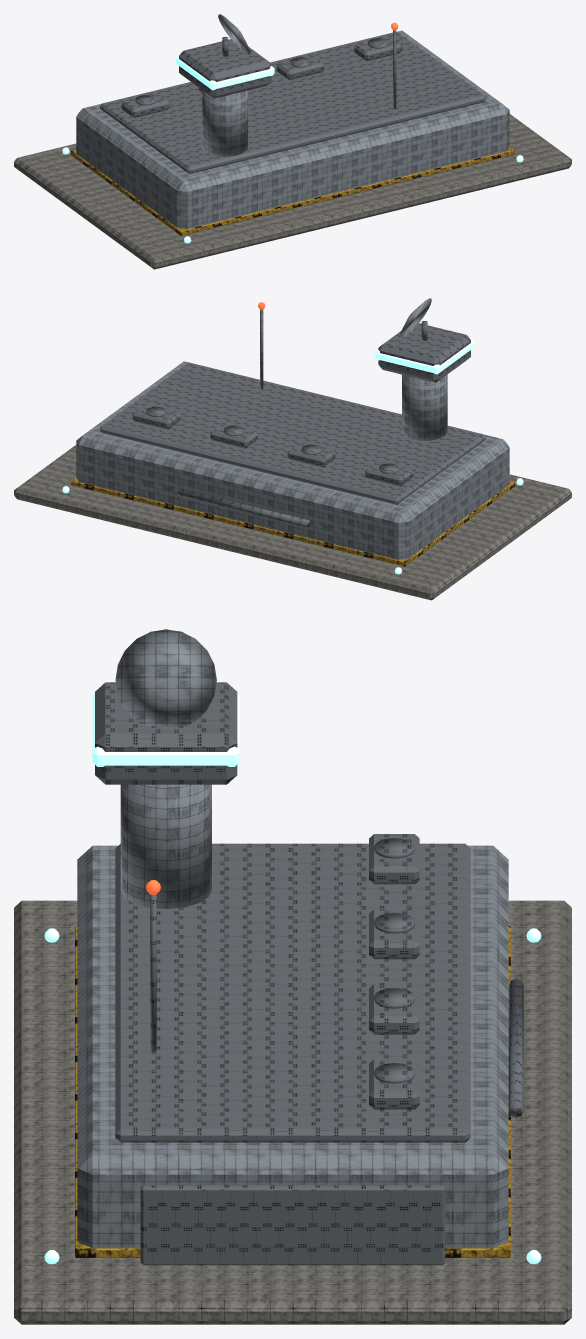
The picture shows the model from 3 angles, top to bottom: view 1: azimuth 30°, elevation 25°; view 2: azimuth 150°, elevation 25°; view 3: azimuth 270°, elevation 25°; orthographic projection. The views are drawn at different scales.
Visible parts, largest first — view 1: main, roof, plinth, tower_cab, tower_shaft, stripe, tower_glass, vent-110, vent30, vent100, dish; view 2: main, roof, plinth, tower_cab, tower_shaft, stripe, tower_glass, pipe0, vent100, vent-40, vent-110, vent30 (+1 smaller); view 3: roof, plinth, main, hangar_door, tower_shaft, tower_cab, dish, stripe, tower_glass, vent100, vent30, vent-40 (+4 smaller).
Part boxes in pixels (<box>): main: <box>76,30,509,228</box>; roof: <box>100,31,485,173</box>; plinth: <box>14,114,571,269</box>; tower_cab: <box>179,39,271,98</box>; tower_shaft: <box>202,90,247,156</box>; stripe: <box>71,146,514,235</box>; tower_glass: <box>176,56,274,90</box>; vent-110: <box>121,93,169,117</box>; vent30: <box>276,55,324,80</box>; vent100: <box>354,36,402,61</box>; dish: <box>218,14,250,54</box>; main: <box>76,361,509,559</box>; roof: <box>100,362,485,504</box>; plinth: <box>14,445,571,600</box>; tower_cab: <box>378,323,470,382</box>; tower_shaft: <box>402,374,447,440</box>; stripe: <box>71,477,514,566</box>; tower_glass: <box>375,340,473,374</box>; pipe0: <box>207,496,310,527</box>; vent100: <box>132,405,180,429</box>; vent-40: <box>287,442,335,467</box>; vent-110: <box>365,462,413,486</box>; vent30: <box>210,424,257,448</box>; roof: <box>115,843,470,1142</box>; plinth: <box>14,900,571,1324</box>; main: <box>77,845,508,1248</box>; hangar_door: <box>140,1185,445,1265</box>; tower_shaft: <box>120,784,211,908</box>; tower_cab: <box>95,682,237,784</box>; dish: <box>115,629,216,726</box>; stripe: <box>75,926,510,1257</box>; tower_glass: <box>92,693,239,766</box>; vent100: <box>369,1059,419,1109</box>; vent30: <box>369,984,419,1034</box>; vent-40: <box>369,909,419,959</box>.
Bounding box in the file's own units: 380 × 173 × 220.
6 materials, 4 textured.
